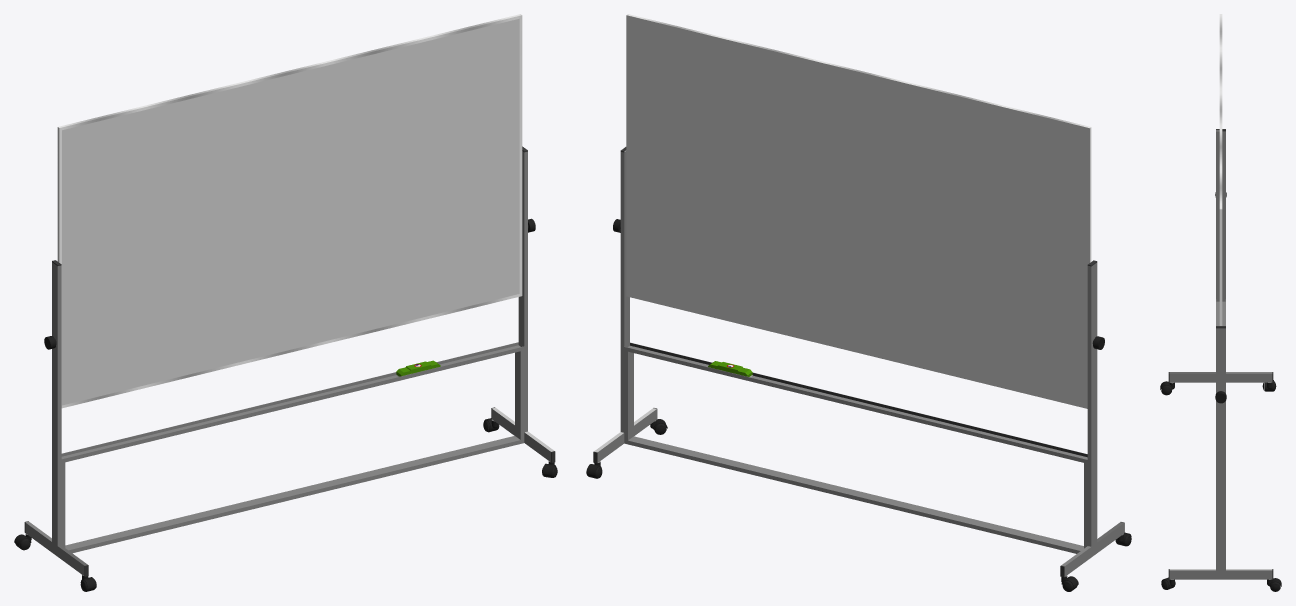
Rendered from board.fbx.
3 renders of one model, left to right at view 1: azimuth 30°, elevation 25°; view 2: azimuth 150°, elevation 25°; view 3: azimuth 270°, elevation 25°, orthographic. The views are drawn at different scales.
Visible parts, largest first — view 1: Model; view 2: Model; view 3: Model.
Part boxes in pixels (box(x1,y1,x2,y2)): Model: box(24, 14, 555, 576); Model: box(593, 14, 1124, 577); Model: box(1168, 14, 1273, 579).
Size of the model in its own units: 2634 by 2269 by 656.
